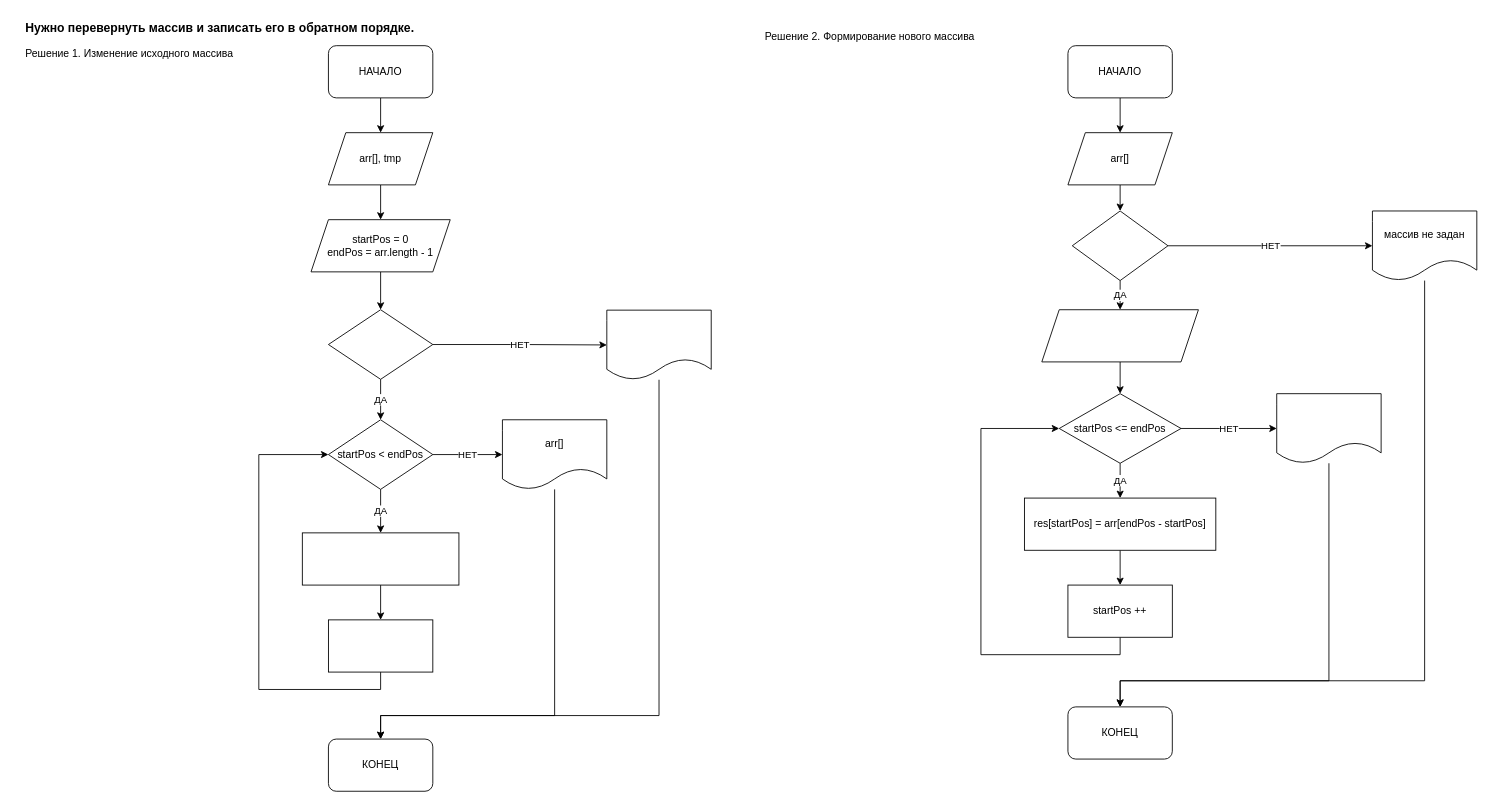
The diagram is 1492 pixels wide and 806 high, and some of its shapes have lost their labels. The centre of each missing label's shape, as x and y in pixels:
"arr.length > 0" goes at point 1119,245.
"endPos > 0" goes at point 380,344.
"res[]" goes at point 1328,428.
"res[] startPos = 0 endPos = arr.length - 1" goes at point 1119,335.
"startPos ++ endPos --" goes at point 380,645.
"tmp = arr[startPos] arr[startPos] = arr[endPos] arr[endPos] = tmp" goes at point 380,558.
"Массив пуст или перестановка не нужна." goes at point 658,344.
